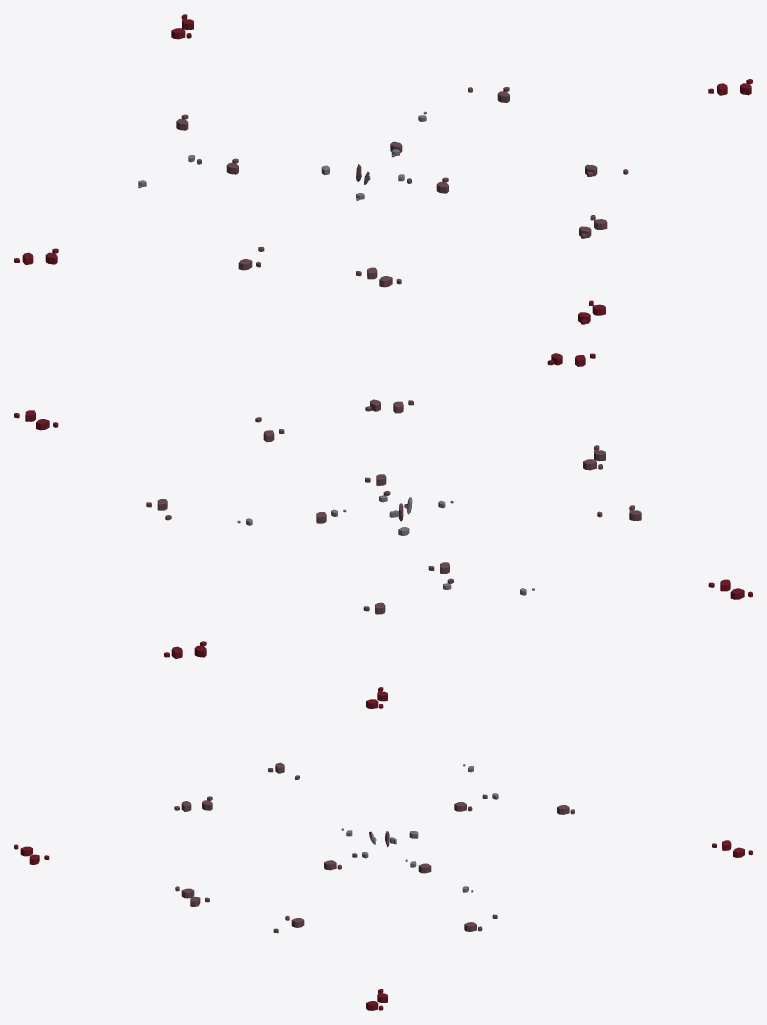
The model's file is stone-s2.fbx.
3 views of the same model, one above another, from view 1: azimuth 30°, elevation 25°; view 2: azimuth 150°, elevation 25°; view 3: azimuth 270°, elevation 25° (orthographic). The views are drawn at different scales.
Bounding box in the file's own units: 284 × 6.73 × 276.
